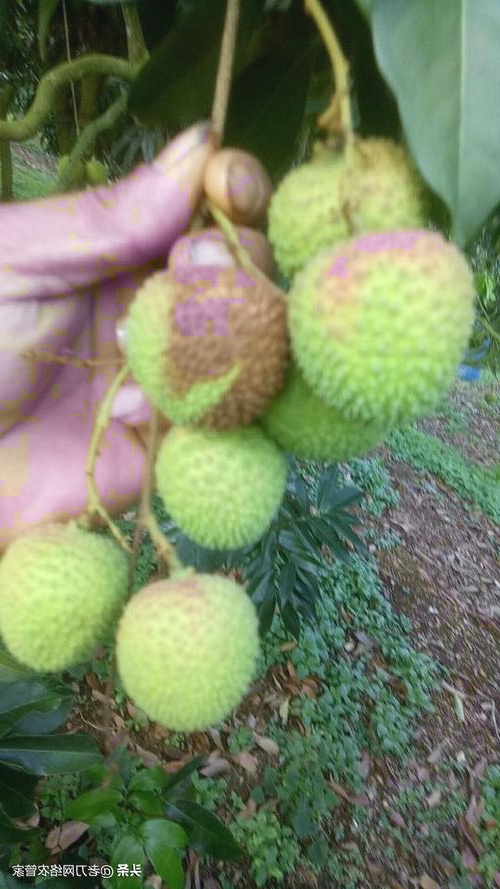Anthracnose: (131, 243, 288, 460), (323, 163, 489, 352), (124, 530, 231, 607)
